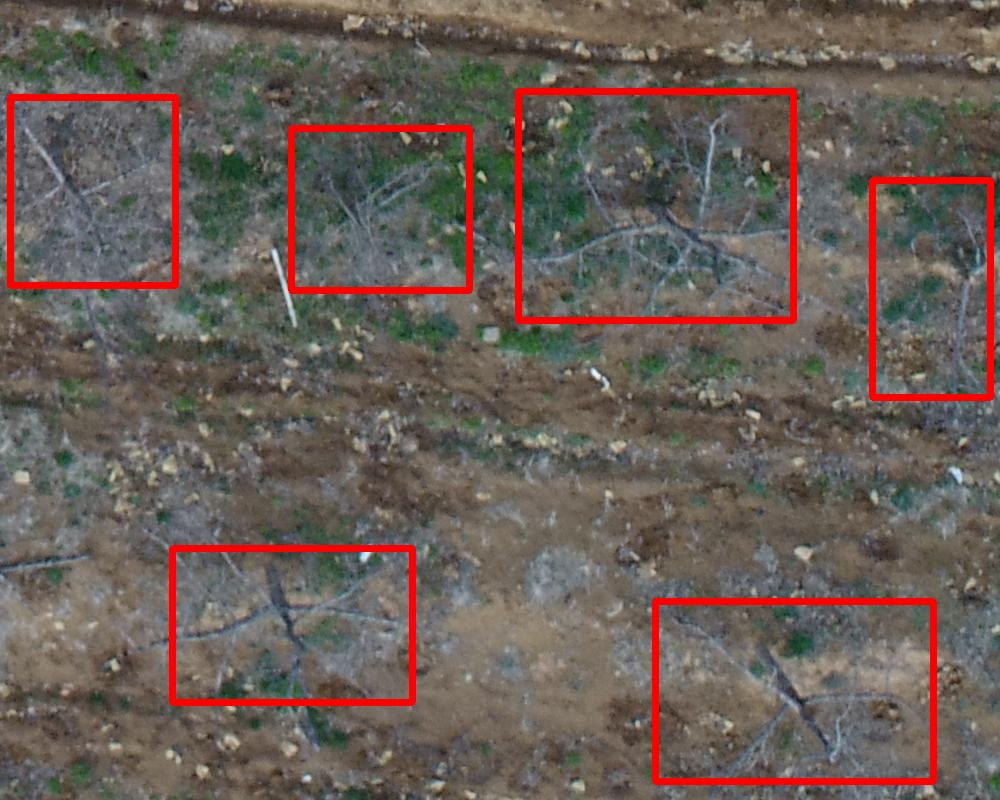apple: (518, 91, 793, 320), (655, 601, 933, 781), (172, 548, 412, 702), (10, 97, 175, 285), (291, 128, 469, 290), (872, 180, 990, 397)
